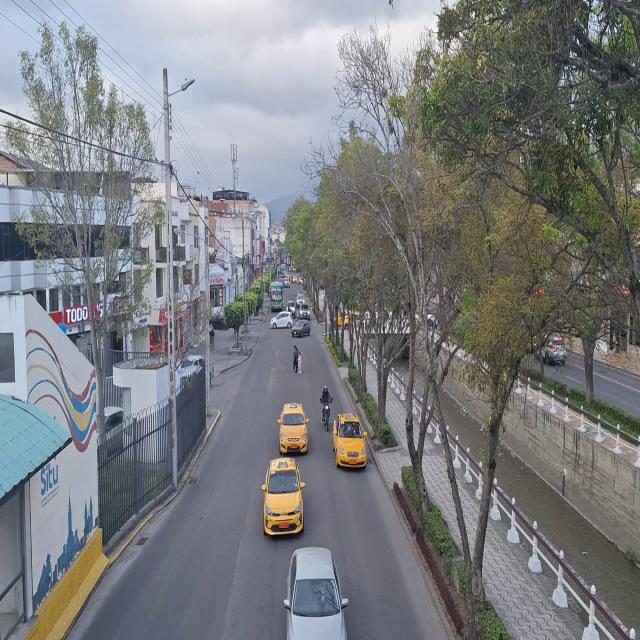MOTORCYCLE: (321, 398, 331, 432)
